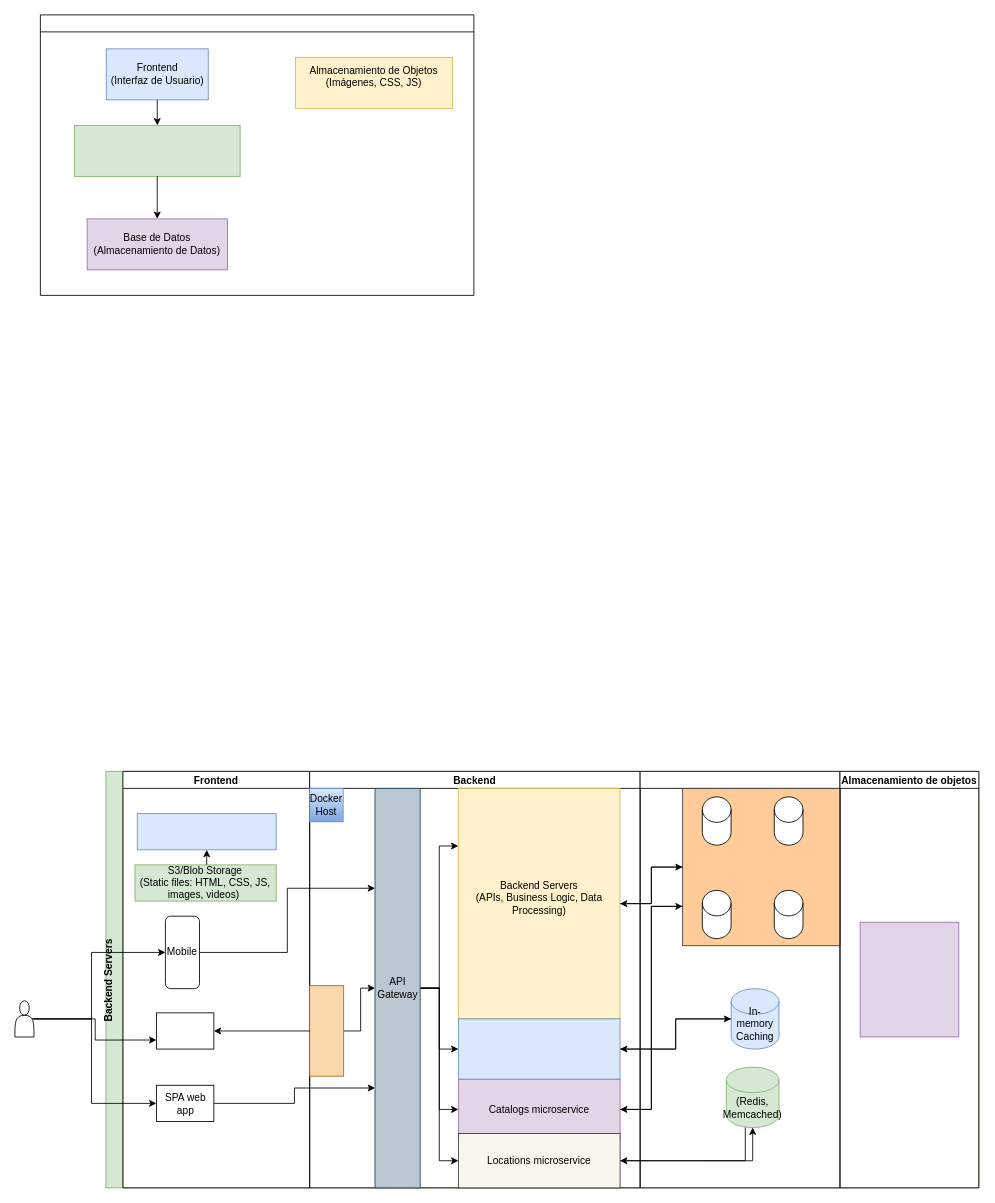
Image size: 995x1203. Some labels were removed from this diagram. Each missing label, with the box of its shape:
Backend (Lógica y Procesamiento de Datos): (74, 125, 240, 176)
BDD: (639, 771, 840, 1188)
CDN (CloudFront, Azure CDN, GCP) Distributes content: (136, 813, 276, 850)
Diagrama General: (40, 14, 474, 295)
Identity microservice: (458, 1018, 620, 1079)
S3/Blob Storage (Multimedia, Documents): (859, 921, 959, 1037)
SQL/NoSQL Database (RDS, Azure SQL, etc.): (682, 788, 840, 946)
WebApp: (309, 985, 344, 1076)
Wep App: (156, 1012, 214, 1049)
